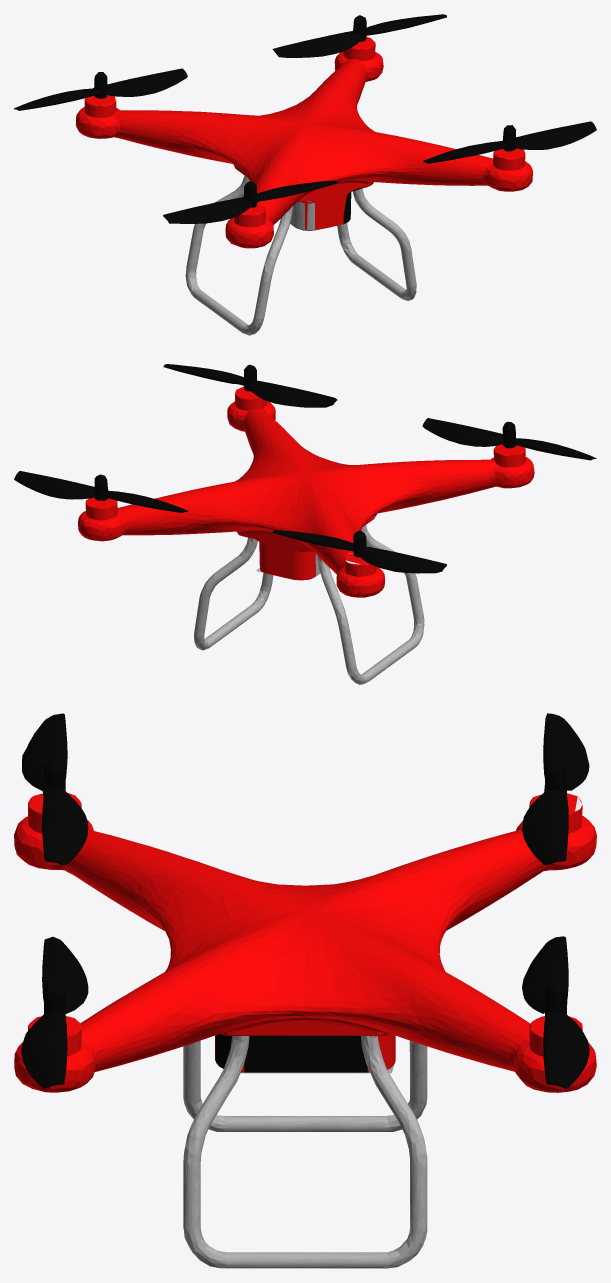
Rendered from drone-v3.dae.
3 views of the same model, one above another, from view 1: azimuth 30°, elevation 25°; view 2: azimuth 150°, elevation 25°; view 3: azimuth 270°, elevation 25° (orthographic). The views are drawn at different scales.
Visible parts, largest first — view 1: instance_0 (×11); view 2: instance_0 (×8); view 3: instance_0 (×10).
Boxes of the visible parts, x1,y1,x2,y2 form: instance_0 (×11): (14, 14, 596, 335); instance_0 (×8): (14, 364, 596, 684); instance_0 (×10): (14, 713, 596, 1268).
Size of the model in its own units: 27.95 by 19.69 by 12.65.
5 materials, 2 textured.
